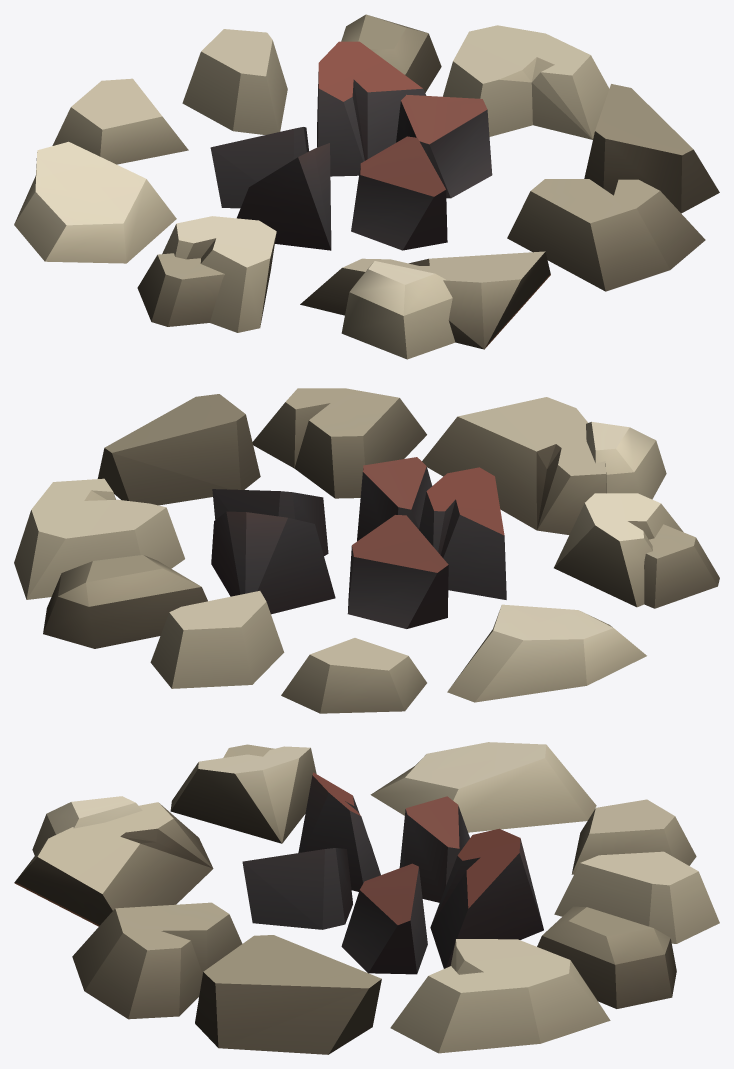
File: Camp_Fire_1A.fbx
3 renders of one model, top to bottom at view 1: azimuth 30°, elevation 25°; view 2: azimuth 150°, elevation 25°; view 3: azimuth 270°, elevation 25°, orthographic.
Visible parts, largest first — view 1: Camp_Fire_1A; view 2: Camp_Fire_1A; view 3: Camp_Fire_1A.
Boxes of the visible parts, bbox=[...] form: Camp_Fire_1A: bbox=[14, 14, 719, 359]; Camp_Fire_1A: bbox=[14, 388, 719, 713]; Camp_Fire_1A: bbox=[14, 742, 719, 1054].
Size of the model in its own units: 1.81 by 0.2852 by 1.87.
